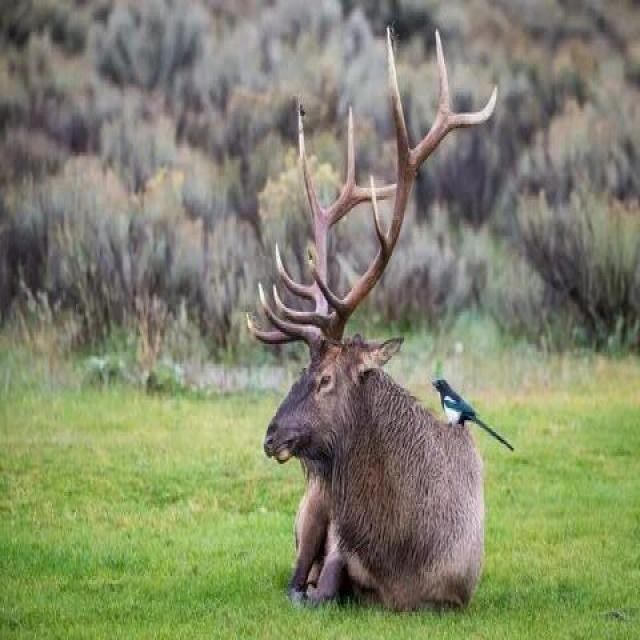deer: (194, 130, 570, 640)
